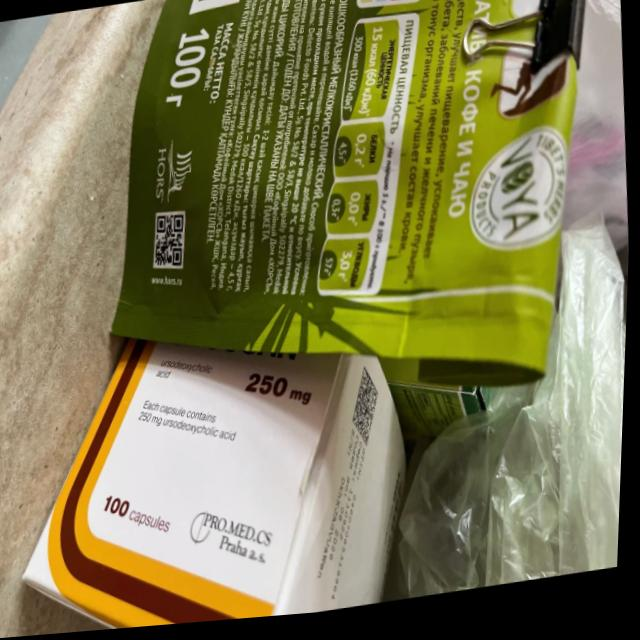datamatrix: (352, 369, 389, 457)
qrcode: (151, 214, 190, 277)
